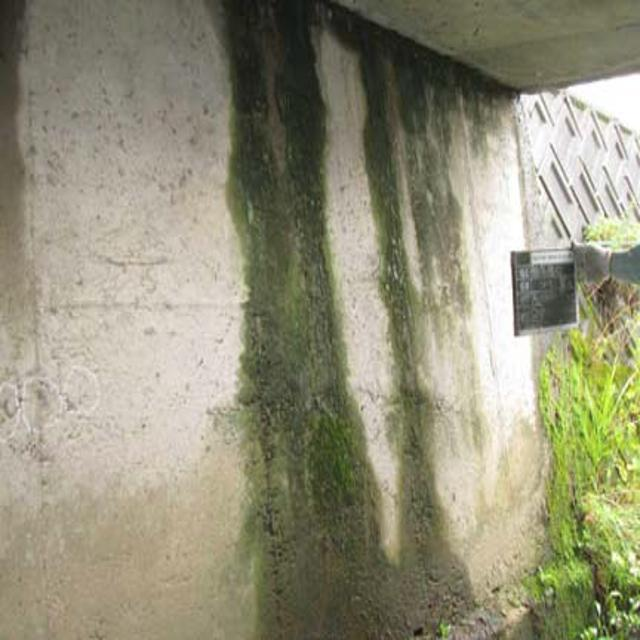leakage: (213, 1, 501, 630)
